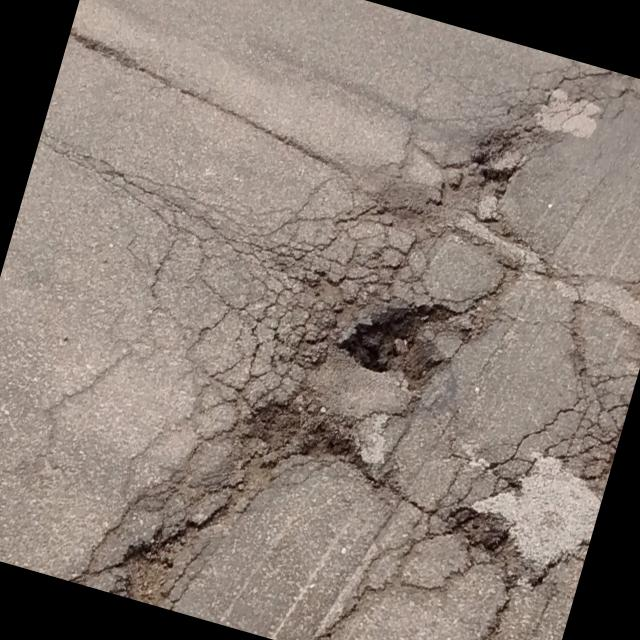Potholes: (298, 212, 492, 449), (212, 341, 374, 501), (423, 436, 554, 590), (438, 98, 546, 256), (100, 491, 220, 616)
